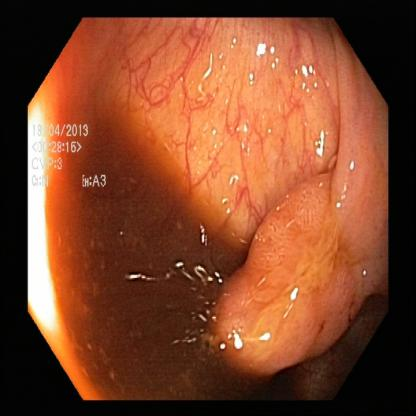Labels: (23, 115, 120, 202)
Polyps: (234, 191, 342, 360)
